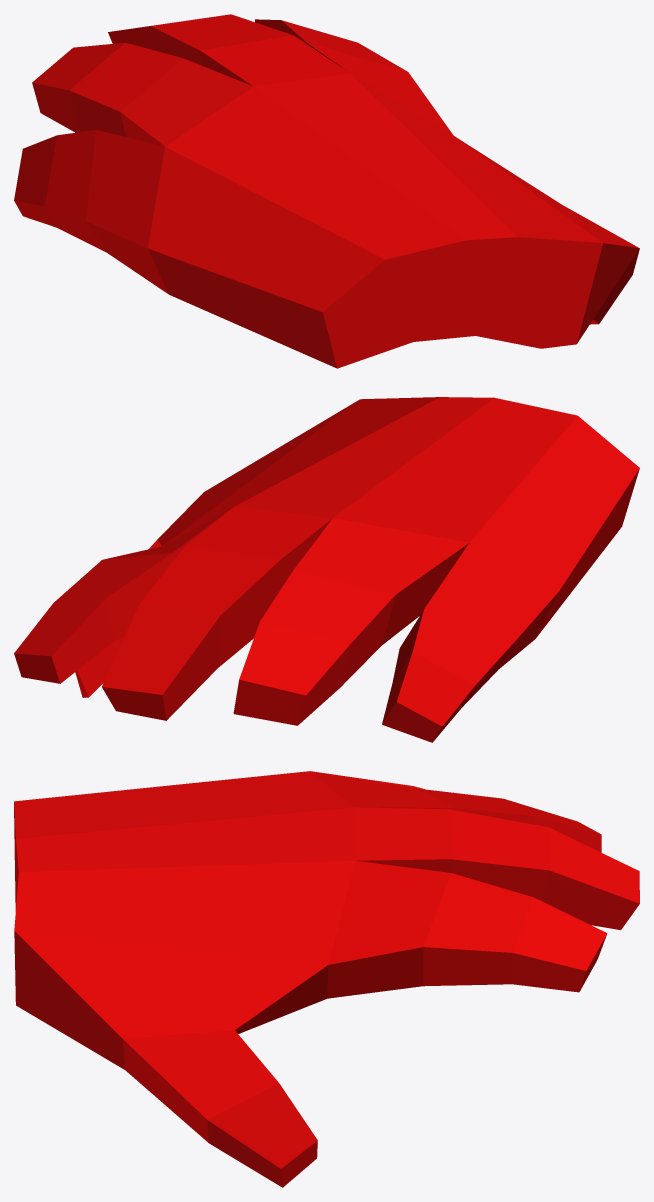
File: mano.fbx
3 renders of one model, top to bottom at view 1: azimuth 30°, elevation 25°; view 2: azimuth 150°, elevation 25°; view 3: azimuth 270°, elevation 25°, orthographic. The views are drawn at different scales.
Parts seen in each view (by area): view 1: Cube; view 2: Cube; view 3: Cube.
Part boxes in pixels (x1,y1,x2,y2): Cube: (14,14,639,368); Cube: (14,397,639,742); Cube: (14,771,639,1187).
Bounding box in the file's own units: 106 × 59.53 × 134.
